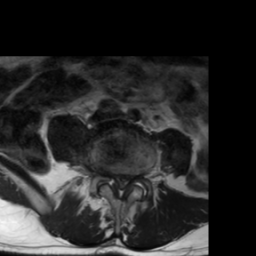CCS_normal: (117, 170, 124, 202)
LFS_severe_stenosis: (131, 166, 138, 186)
LLS_severe_stenosis: (124, 169, 131, 192)
RFS_severe_stenosis: (103, 162, 111, 186)
RLS_severe_stenosis: (111, 167, 117, 189)
